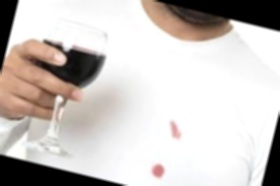wine: (165, 119, 187, 141), (147, 163, 168, 182)
